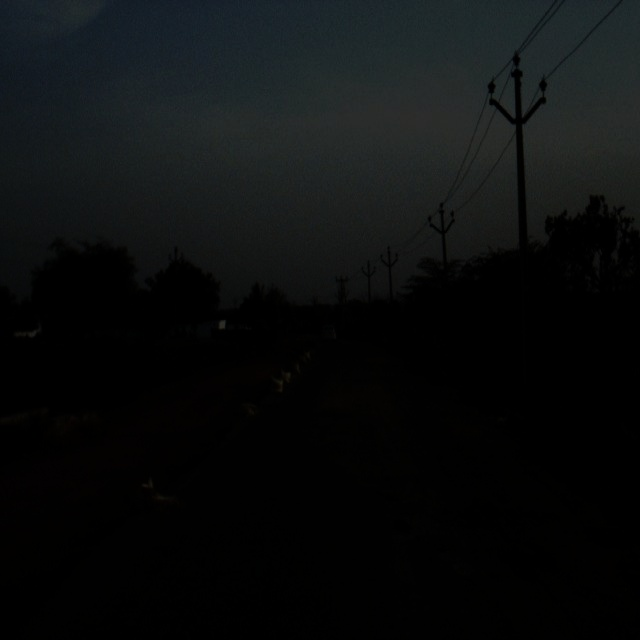Pothole: (387, 495, 546, 634), (308, 362, 406, 490), (416, 402, 474, 487)
